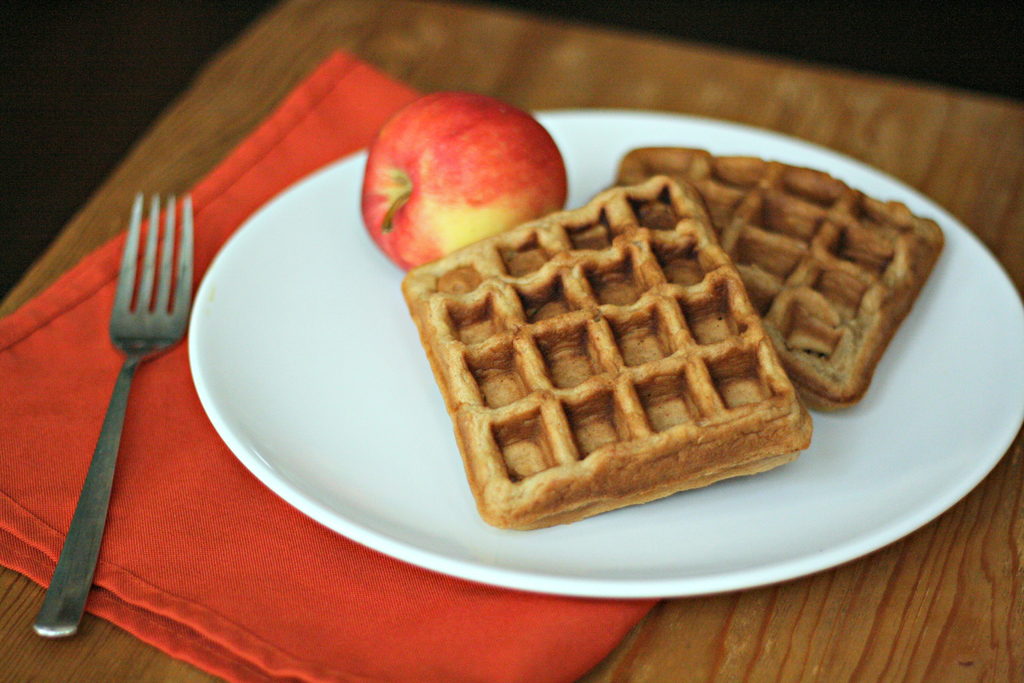Apple: (371, 96, 577, 274)
